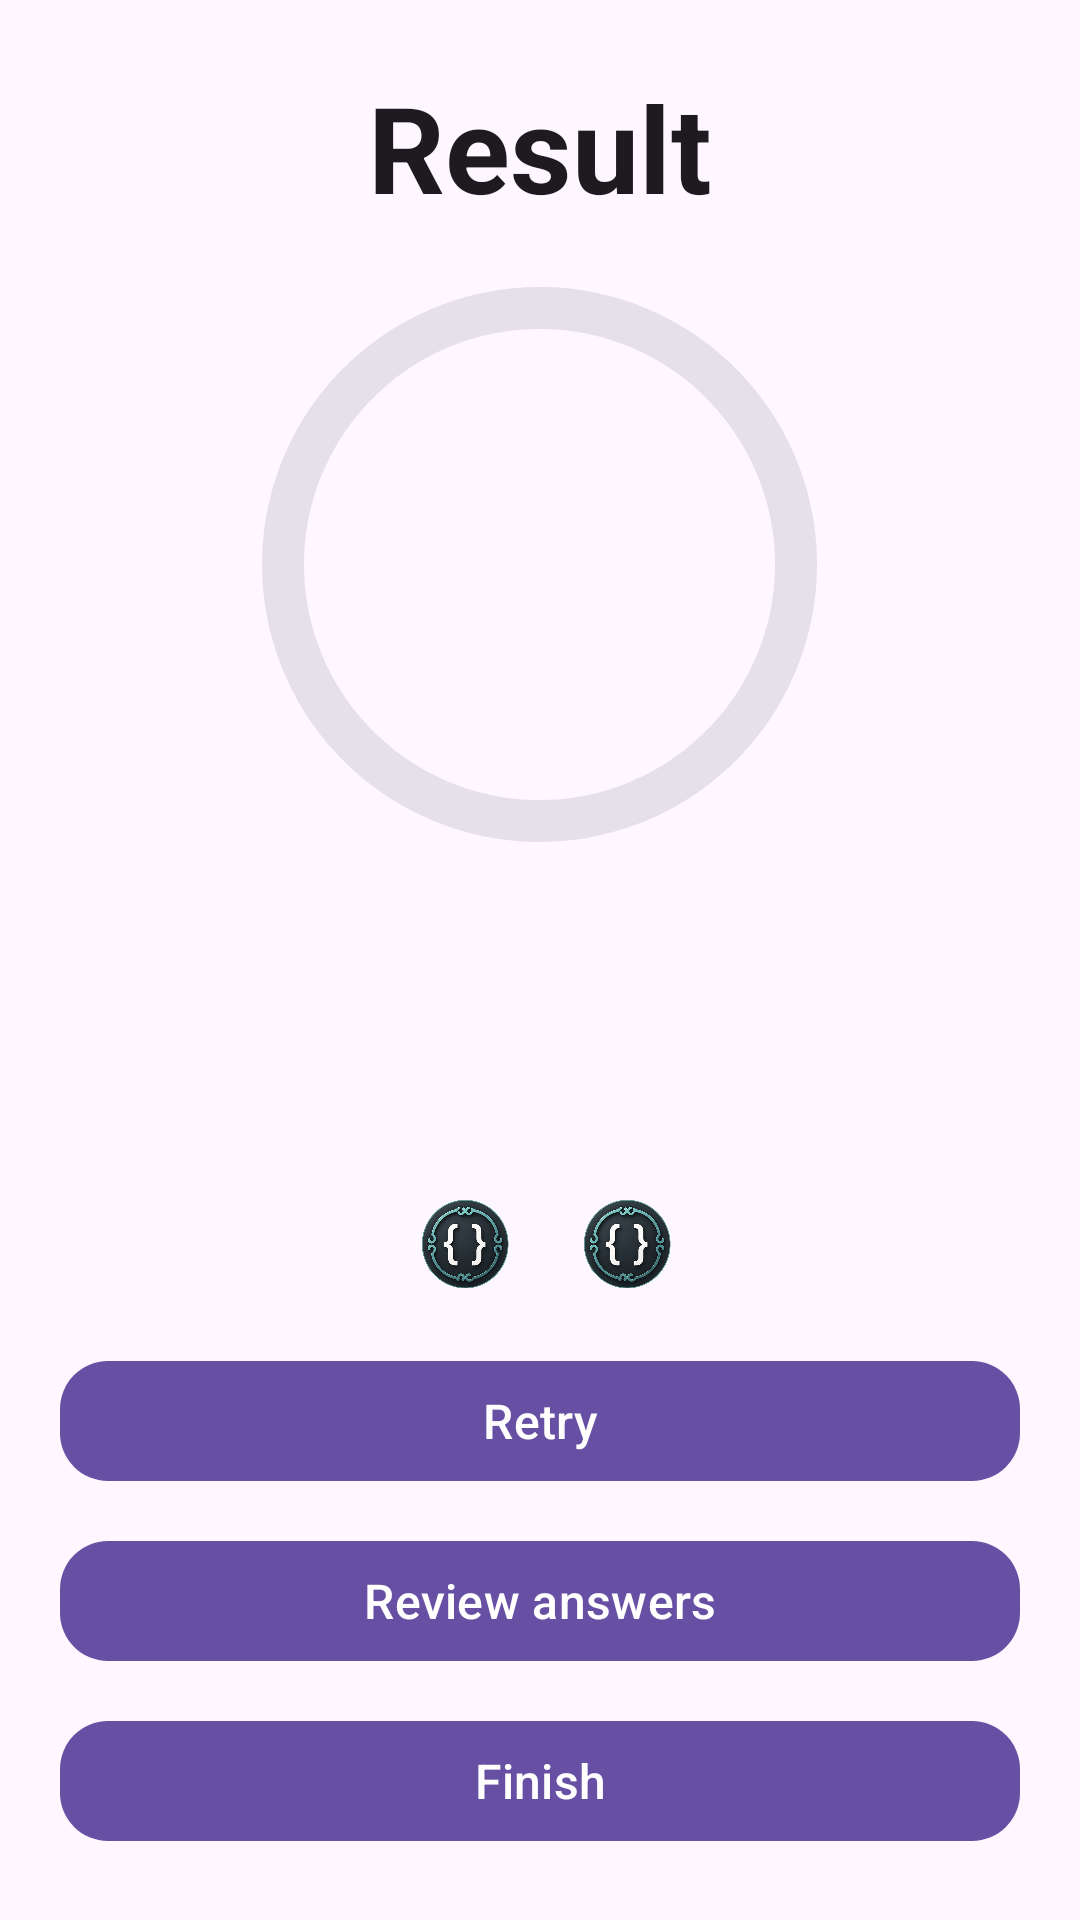

Screen size 1080px x 1920px. Icon name, then its center in pixels as (x=x, y=y):
Game currency: (x=465, y=1244), (x=627, y=1244)
